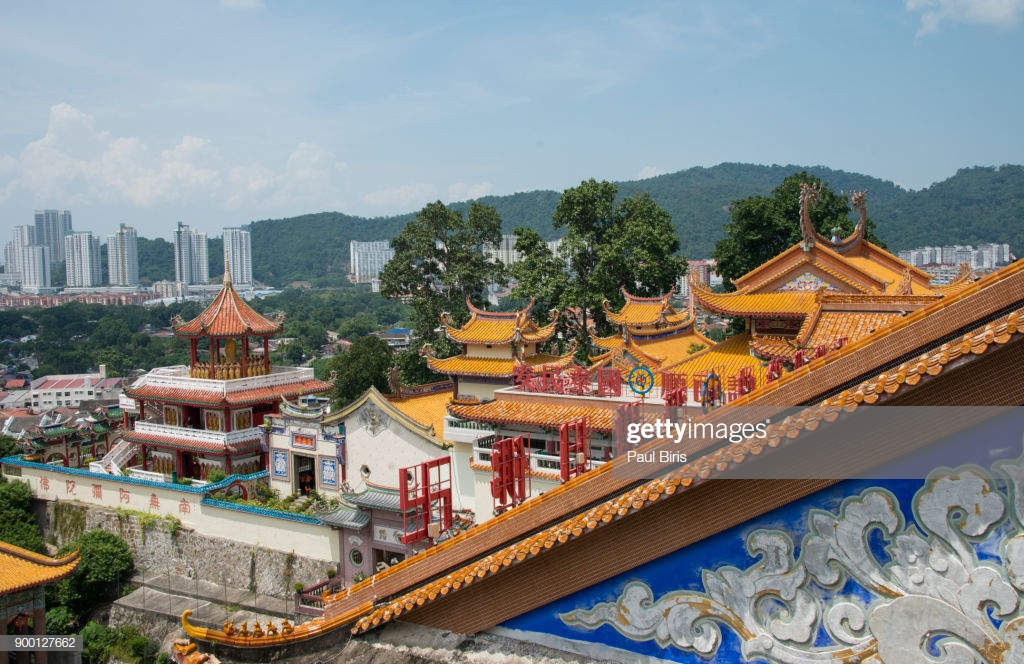Buddhist Temple: (443, 215, 1019, 664), (134, 267, 285, 481)
